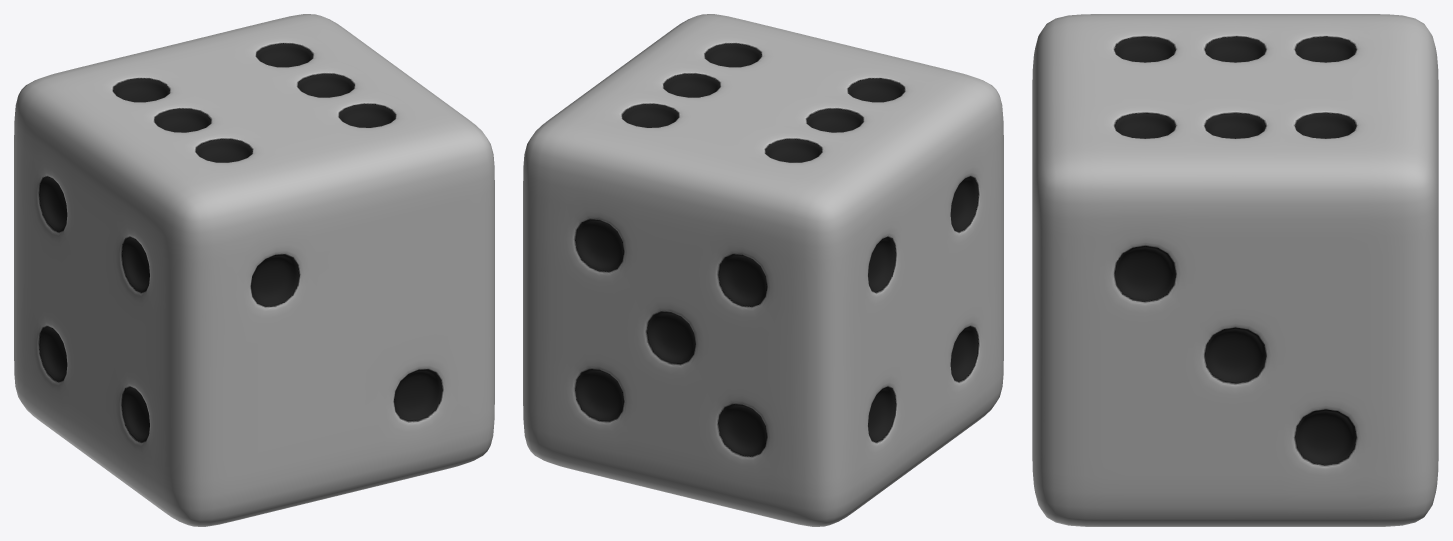
File: dice_1787032847170.glb
3 renders of one model, left to right at view 1: azimuth 30°, elevation 25°; view 2: azimuth 150°, elevation 25°; view 3: azimuth 270°, elevation 25°, orthographic. The views are drawn at different scales.
Visible parts, largest first — view 1: dice; view 2: dice; view 3: dice.
Part boxes in pixels (x1,y1,x2,y2): dice: (14,14,494,526); dice: (523,14,1003,526); dice: (1032,14,1438,526).
Size of the model in its own units: 0.025 by 0.025 by 0.025.
Materials: 1 (1 with a texture image).
